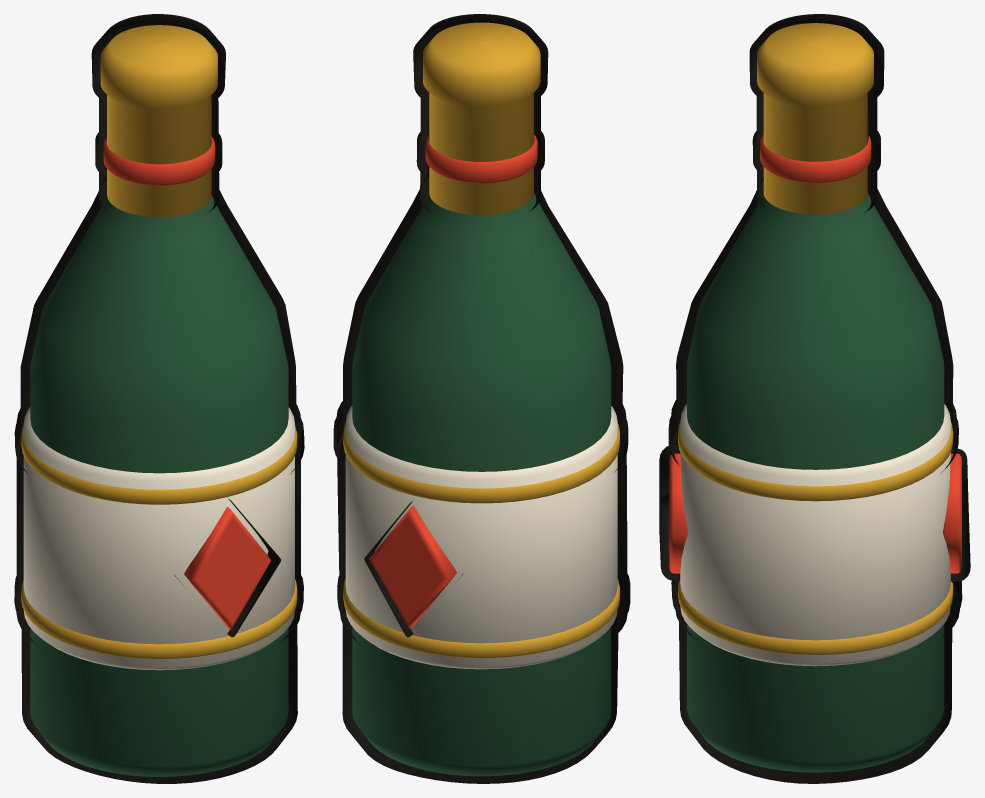
The model's file is winebottle.glb.
3 views of the same model, side by side, from view 1: azimuth 30°, elevation 25°; view 2: azimuth 150°, elevation 25°; view 3: azimuth 270°, elevation 25° (orthographic).
Visible parts, largest first — view 1: WineBottle, WineBottle_outline; view 2: WineBottle, WineBottle_outline; view 3: WineBottle, WineBottle_outline.
Part boxes in pixels (x1=…): WineBottle: x1=21, y1=25, x2=297, y2=776; WineBottle_outline: x1=14, y1=14, x2=304, y2=783; WineBottle: x1=343, y1=22, x2=619, y2=776; WineBottle_outline: x1=333, y1=14, x2=630, y2=783; WineBottle: x1=669, y1=23, x2=961, y2=772; WineBottle_outline: x1=659, y1=14, x2=970, y2=783.
Size of the model in its own units: 1 by 2.64 by 1.06.
